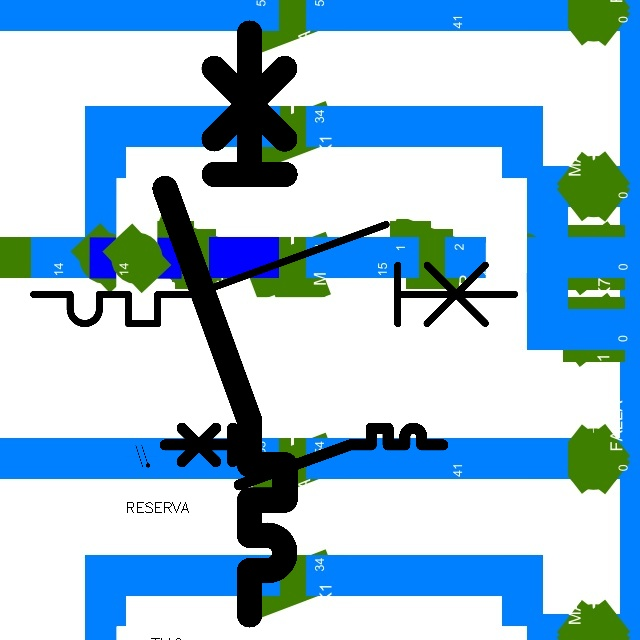interruptor_termomagnetico: (150, 18, 300, 630), (21, 212, 526, 336), (158, 421, 450, 492)
